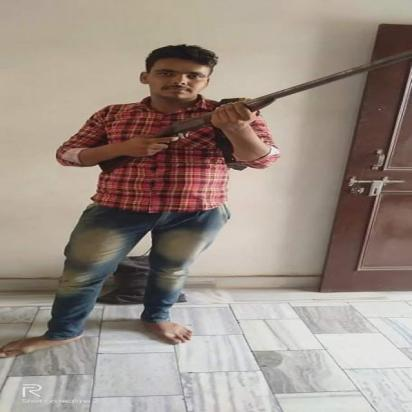Gun: (96, 48, 411, 175)
